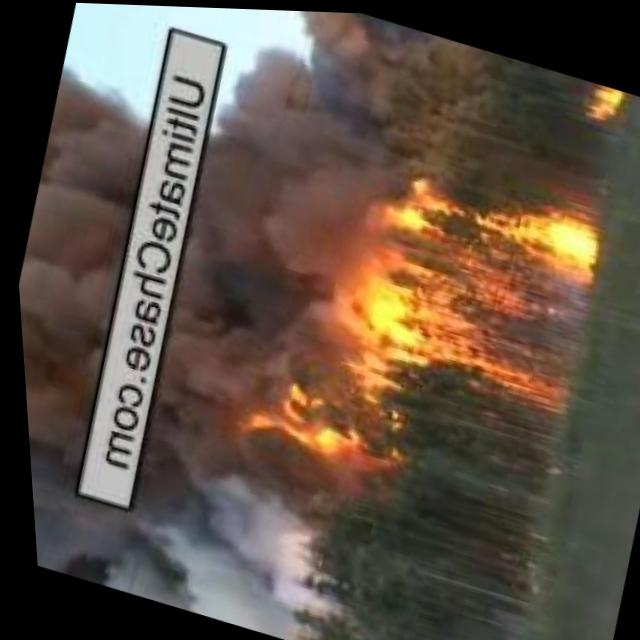Fire: (327, 154, 615, 411), (218, 376, 390, 476), (580, 77, 627, 123)
